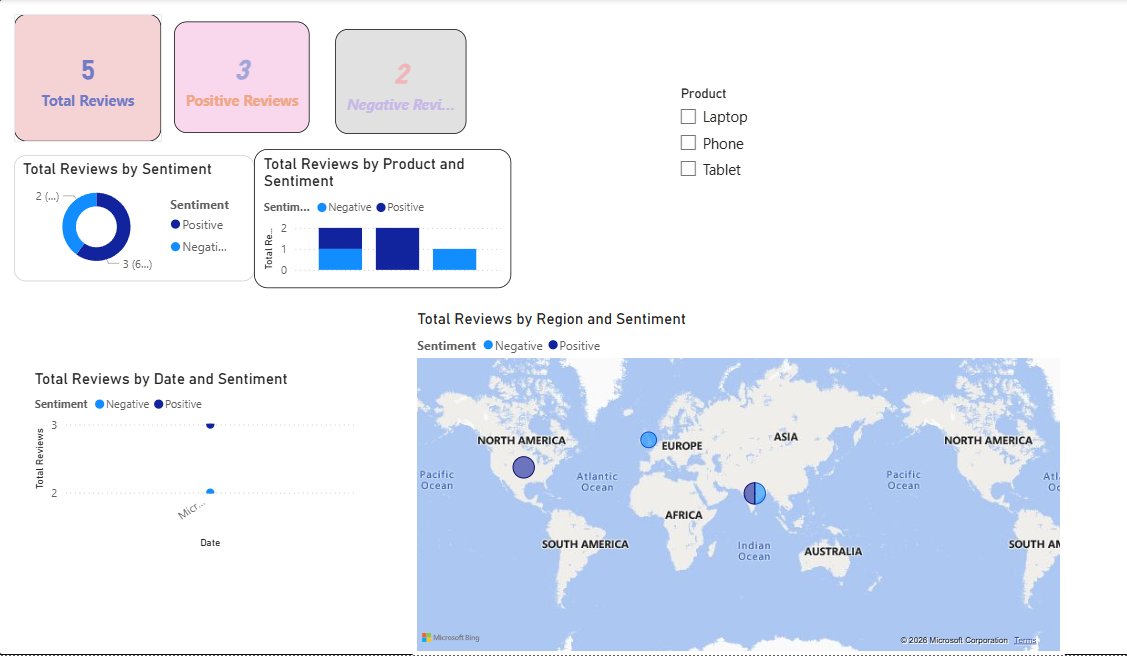

The dashboard page shown, as its layout file describes it:
{"tool":"powerbi","page":{"name":"Page 1","canvas":[1280,720],"ordinal":0},"visuals":[{"type":"card","fields":{"Values":["customer_review.Total Reviews"]},"box":[16.7,16.7,161.7,140],"z":0},{"type":"card","fields":{"Values":["customer_review.Positive Reviews"]},"box":[192.5,25,148.8,122.5],"z":1000},{"type":"card","fields":{"Values":["customer_review.Negative Reviews"]},"box":[368.8,32.5,143.8,115],"z":2000},{"type":"donutChart","fields":{"Category":["customer_review.Sentiment"],"Y":["customer_review.Total Reviews"]},"box":[16.2,171.2,263.8,138.8],"z":3000},{"type":"columnChart","fields":{"Category":["customer_review.Product"],"Y":["customer_review.Total Reviews"],"Series":["customer_review.Sentiment"]},"box":[280,165,282.5,152.5],"z":4000},{"type":"lineChart","fields":{"Category":["customer_review.Date"],"Y":["customer_review.Total Reviews"],"Series":["customer_review.Sentiment"]},"box":[34.3,406.2,360.9,201.7],"z":5000},{"type":"map","fields":{"Category":["customer_review.Region"],"Series":["customer_review.Sentiment"],"Size":["customer_review.Total Reviews"]},"box":[454.2,340.3,714.9,380.1],"z":6000},{"type":"slicer","fields":{"Values":["customer_review.Product"]},"box":[735.5,90.6,204.5,124.9],"z":7000}]}

Visuals, with their boxes in screenshot pixels (x1, y1, x2, y2):
card - customer_review.Total Reviews: 18 18 164 144
card - customer_review.Positive Reviews: 176 25 310 136
card - customer_review.Negative Reviews: 335 32 464 136
donutChart - customer_review.Sentiment x customer_review.Total Reviews: 18 157 255 282
columnChart - customer_review.Product x customer_review.Total Reviews: 255 151 509 289
lineChart - customer_review.Date x customer_review.Total Reviews: 34 369 359 550
map - customer_review.Region x customer_review.Sentiment: 412 309 1055 651
slicer - customer_review.Product: 665 84 849 197
